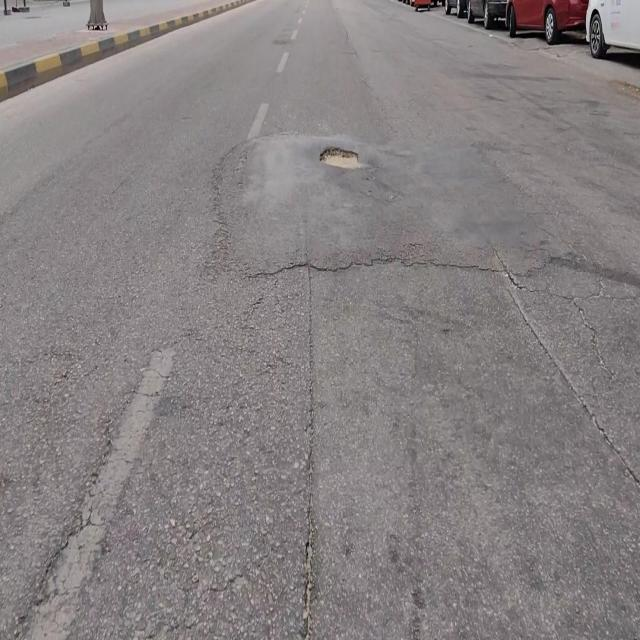Potholes: (318, 144, 360, 171)
